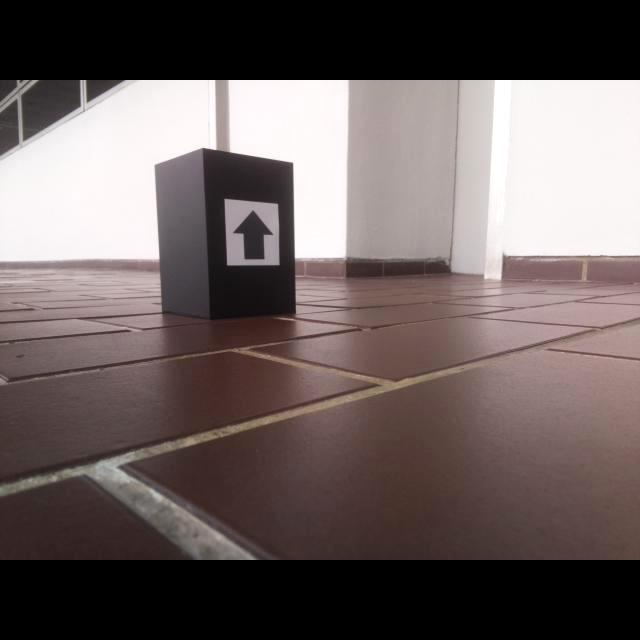UP: (230, 210, 274, 260)
